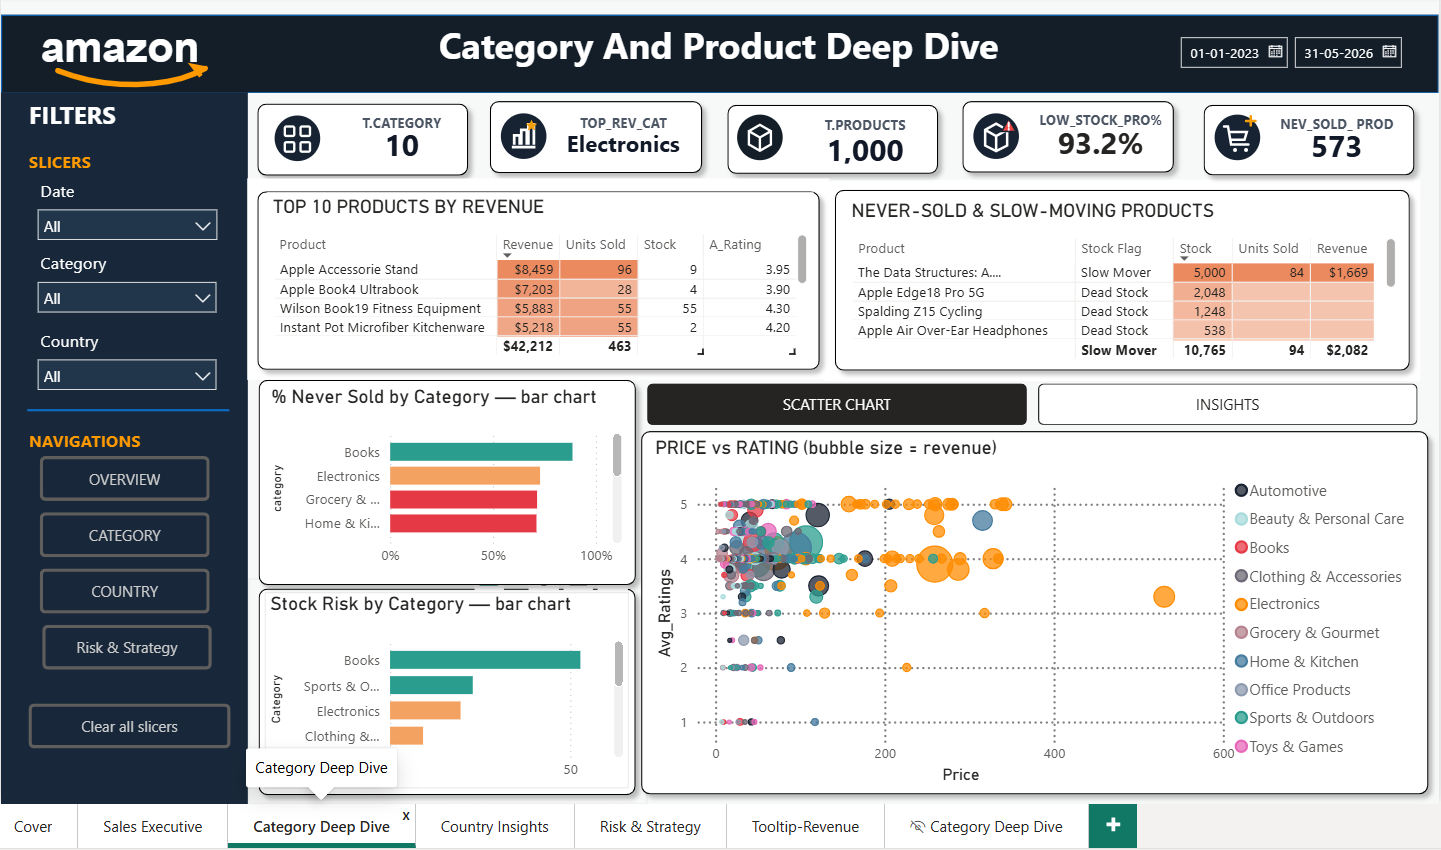

What the dashboard file says about the page in this screenshot:
{"tool":"powerbi","page":{"name":"Category Deep Dive","canvas":[1280,720],"ordinal":2},"visuals":[{"type":"shape","box":[0,16.7,1280.3,69.9],"z":0},{"type":"shape","box":[427,84.9,207,82],"z":0,"group":"g8"},{"type":"shape","box":[847.6,85.3,206.3,81.6],"z":0,"group":"g6"},{"type":"group","id":"g1","title":"Group 1","box":[219.8,87.5,205.7,82],"z":0,"group":"g11"},{"type":"shape","box":[219.8,87.5,205.7,82],"z":0,"group":"g1"},{"type":"shape","box":[638,87.9,205.7,79.4],"z":0,"group":"g5"},{"type":"shape","box":[1062.5,87.9,205.7,80.7],"z":0,"group":"g4"},{"type":"group","id":"g2","title":"Group 15","box":[219.6,162.9,518.8,179],"z":0,"group":"g3"},{"type":"group","id":"g3","title":"Group 7","box":[219.6,162.9,518.8,179],"z":0,"group":"g12"},{"type":"shape","box":[219.6,162.9,518.8,179],"z":0,"group":"g2"},{"type":"shape","box":[733.5,164.1,530,179],"z":0,"group":"g9"},{"type":"shape","box":[220.8,333,354,200.7],"z":0,"group":"g10"},{"type":"shape","box":[560,381,719,339],"z":0,"group":"g13"},{"type":"shape","box":[220.8,518.8,353.7,201.9],"z":0,"group":"g7"},{"type":"shape","box":[0,86.3,219.8,634.4],"z":1000},{"type":"group","id":"g4","title":"Group 2","box":[1062.5,87.9,205.7,80.7],"z":1000,"group":"g11"},{"type":"image","box":[443.9,103.2,45,45],"z":1000,"group":"g8"},{"type":"image","box":[654,103.2,45,45],"z":1000,"group":"g5"},{"type":"image","box":[863.9,103.2,45,45],"z":1000,"group":"g6"},{"type":"image","box":[1079,103.2,45,45],"z":1000,"group":"g4"},{"type":"image","box":[241.7,104,45,45.8],"z":1000,"group":"g1"},{"type":"tableEx","title":"TOP 10 PRODUCTS BY REVENUE","fields":{"Values":["products.product_name","_Measure.Total Revenue","_Measure.Units Sold","select1","_Measure.Total Stock Quantity","select","_Measure.Avg Product Rating"]},"box":[237.3,175.6,486.2,150],"z":1000,"group":"g2"},{"type":"tableEx","title":"NEVER-SOLD & SLOW-MOVING PRODUCTS","fields":{"Values":["products.product_name","_Measure.Dead Stock Flag","_Measure.Total Stock Quantity","_Measure.Units Sold","_Measure.Total Revenue"]},"box":[752.1,178.8,494.6,150],"z":1000,"group":"g9"},{"type":"clusteredBarChart","title":"% Never Sold by Category — bar chart","fields":{"Category":["products.category"],"Y":["_Measure.% Products Never Sold"]},"box":[236.7,346.3,322,170],"z":1000,"group":"g10"},{"type":"image","box":[597,422.5,101.7,87],"z":1000,"group":"g13"},{"type":"clusteredBarChart","title":"Stock Risk by Category — bar chart","fields":{"Category":["products.category"],"Y":["_Measure.Avg Stock in Category"]},"box":[235.1,530.5,324.4,175.7],"z":1000,"group":"g7"},{"type":"image","box":[0,16.7,270.6,69.9],"z":2000},{"type":"group","id":"g5","title":"Group 2","box":[638,87.9,205.7,79.4],"z":2000,"group":"g11"},{"type":"card","title":"LOW_STOCK_PRO%","fields":{"Values":["_Measure.% Products Low Stock"]},"box":[919.6,103.4,120,43.3],"z":2000,"group":"g6"},{"type":"card","title":"TOP_REV_CAT","fields":{"Values":["_Measure.Top Category by Revenue"]},"box":[494.6,104.8,120.4,43.5],"z":2000,"group":"g8"},{"type":"card","title":"NEV_SOLD_ PROD","fields":{"Values":["_Measure.Products Never Sold"]},"box":[1130.8,105.2,119.7,42.8],"z":2000,"group":"g4"},{"type":"card","title":"T.CATEGORY","fields":{"Values":["Count(products.category)"]},"box":[298.1,105.3,119.7,43.5],"z":2000,"group":"g1"},{"type":"card","title":"T.PRODUCTS","fields":{"Values":["_Measure.Total Products"]},"box":[712.8,107.4,114.6,47.1],"z":2000,"group":"g5"},{"type":"textbox","box":[707.5,598,557,99.7],"z":2000,"group":"g13"},{"type":"group","id":"g6","title":"Group 2","box":[847.6,85.3,206.3,81.6],"z":3000,"group":"g11"},{"type":"image","box":[599.4,510.7,101.7,87],"z":3000,"group":"g13"},{"type":"group","id":"g7","title":"Group 13","box":[220.8,518.8,354.7,201.5],"z":3000},{"type":"group","id":"g8","title":"Group 2","box":[427,84.9,207,82],"z":4000,"group":"g11"},{"type":"textbox","box":[19.7,85.9,179.9,327],"z":4000},{"type":"textbox","box":[707.5,421.7,558.3,76.6],"z":4000,"group":"g13"},{"type":"textbox","box":[350.9,16.7,577,70],"z":5000},{"type":"image","box":[600.6,597.8,101.7,87],"z":5000,"group":"g13"},{"type":"slicer","title":"DATE","fields":{"Values":["Calendar.Date"]},"box":[22.3,157.8,180,65],"z":6000},{"type":"textbox","box":[707.2,498.5,555.8,99.7],"z":6000,"group":"g13"},{"type":"slicer","fields":{"Values":["Calendar.Date"]},"box":[1027.5,16.7,252.8,69.9],"z":7000},{"type":"group","id":"g9","title":"Group 6","box":[733.5,164.1,530.8,178.6],"z":8000},{"type":"slicer","fields":{"Values":["products.category"]},"box":[22.3,223.2,179.9,69.9],"z":9000},{"type":"group","id":"g10","title":"Group 12","box":[220.8,333,354,200.7],"z":10000},{"type":"slicer","fields":{"Values":["users.country"]},"box":[22.3,291.6,179.9,66.9],"z":11000},{"type":"shape","box":[23.8,358.5,179.9,20.8],"z":12000},{"type":"actionButton","box":[24,630,180,40],"z":13000},{"type":"actionButton","title":"OVERVIEW","box":[34.7,410,151.4,40],"z":13500},{"type":"actionButton","title":"Country","box":[34,510,151.4,40.3],"z":13625},{"type":"actionButton","title":"Category","box":[34.7,460,151.4,40.3],"z":13750},{"type":"actionButton","title":"OVERVIEW","box":[36.6,560,151,40],"z":13875},{"type":"group","id":"g11","title":"Group 5","box":[219.8,84.9,1048.4,84.6],"z":14000},{"type":"group","id":"g12","title":"Group 3","box":[219.6,162.9,520,179.8],"z":15000},{"type":"group","id":"g13","title":"insights","box":[560,381,718.6,339.4],"z":17000},{"type":"bookmarkNavigator","box":[575.5,345.6,686.9,37.6],"z":18000}]}

Visuals, with their boxes on the page's 1280x720 design canvas (x1, y1, x2, y2). These are canvas units, not pixel positions in the 1441x850 screenshot, which may show the page scaled, cropped or inside an application window:
shape: (0, 17, 1280, 87)
shape: (427, 85, 634, 167)
shape: (848, 85, 1054, 167)
"Group 1" group: (220, 88, 426, 170)
shape: (220, 88, 426, 170)
shape: (638, 88, 844, 167)
shape: (1062, 88, 1268, 169)
"Group 15" group: (220, 163, 738, 342)
"Group 7" group: (220, 163, 738, 342)
shape: (220, 163, 738, 342)
shape: (734, 164, 1264, 343)
shape: (221, 333, 575, 534)
shape: (560, 381, 1279, 720)
shape: (221, 519, 574, 721)
shape: (0, 86, 220, 721)
"Group 2" group: (1062, 88, 1268, 169)
image: (444, 103, 489, 148)
image: (654, 103, 699, 148)
image: (864, 103, 909, 148)
image: (1079, 103, 1124, 148)
image: (242, 104, 287, 150)
"TOP 10 PRODUCTS BY REVENUE" tableEx: (237, 176, 724, 326)
"NEVER-SOLD & SLOW-MOVING PRODUCTS" tableEx: (752, 179, 1247, 329)
"% Never Sold by Category — bar chart" clusteredBarChart: (237, 346, 559, 516)
image: (597, 422, 699, 510)
"Stock Risk by Category — bar chart" clusteredBarChart: (235, 530, 560, 706)
image: (0, 17, 271, 87)
"Group 2" group: (638, 88, 844, 167)
"LOW_STOCK_PRO%" card: (920, 103, 1040, 147)
"TOP_REV_CAT" card: (495, 105, 615, 148)
"NEV_SOLD_ PROD" card: (1131, 105, 1250, 148)
"T.CATEGORY" card: (298, 105, 418, 149)
"T.PRODUCTS" card: (713, 107, 827, 154)
textbox: (708, 598, 1264, 698)
"Group 2" group: (848, 85, 1054, 167)
image: (599, 511, 701, 598)
"Group 13" group: (221, 519, 576, 720)
"Group 2" group: (427, 85, 634, 167)
textbox: (20, 86, 200, 413)
textbox: (708, 422, 1266, 498)
textbox: (351, 17, 928, 87)
image: (601, 598, 702, 685)
"DATE" slicer: (22, 158, 202, 223)
textbox: (707, 498, 1263, 598)
slicer - Calendar.Date: (1028, 17, 1280, 87)
"Group 6" group: (734, 164, 1264, 343)
slicer - products.category: (22, 223, 202, 293)
"Group 12" group: (221, 333, 575, 534)
slicer - users.country: (22, 292, 202, 358)
shape: (24, 358, 204, 379)
actionButton: (24, 630, 204, 670)
"OVERVIEW" actionButton: (35, 410, 186, 450)
"Country" actionButton: (34, 510, 185, 550)
"Category" actionButton: (35, 460, 186, 500)
"OVERVIEW" actionButton: (37, 560, 188, 600)
"Group 5" group: (220, 85, 1268, 170)
"Group 3" group: (220, 163, 740, 343)
"insights" group: (560, 381, 1279, 720)
bookmarkNavigator: (576, 346, 1262, 383)
